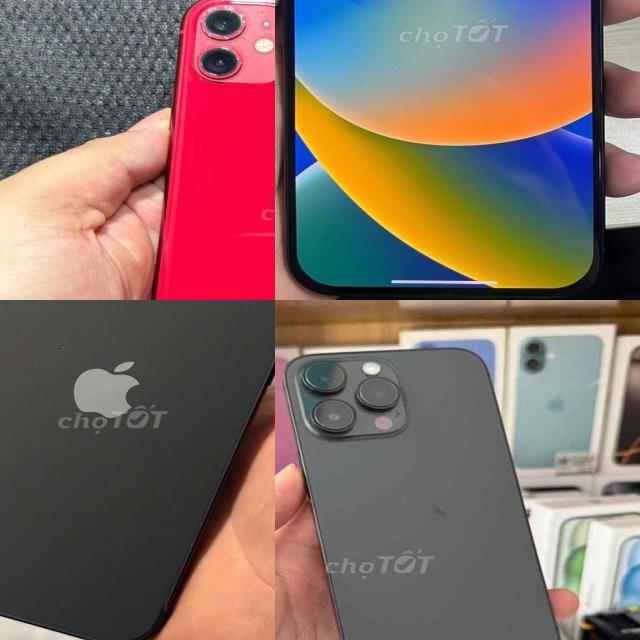gen_11: (146, 0, 275, 300)
gen_12_13: (0, 300, 275, 640)
gen_14: (275, 339, 575, 640)
gen_15: (275, 0, 618, 300)
